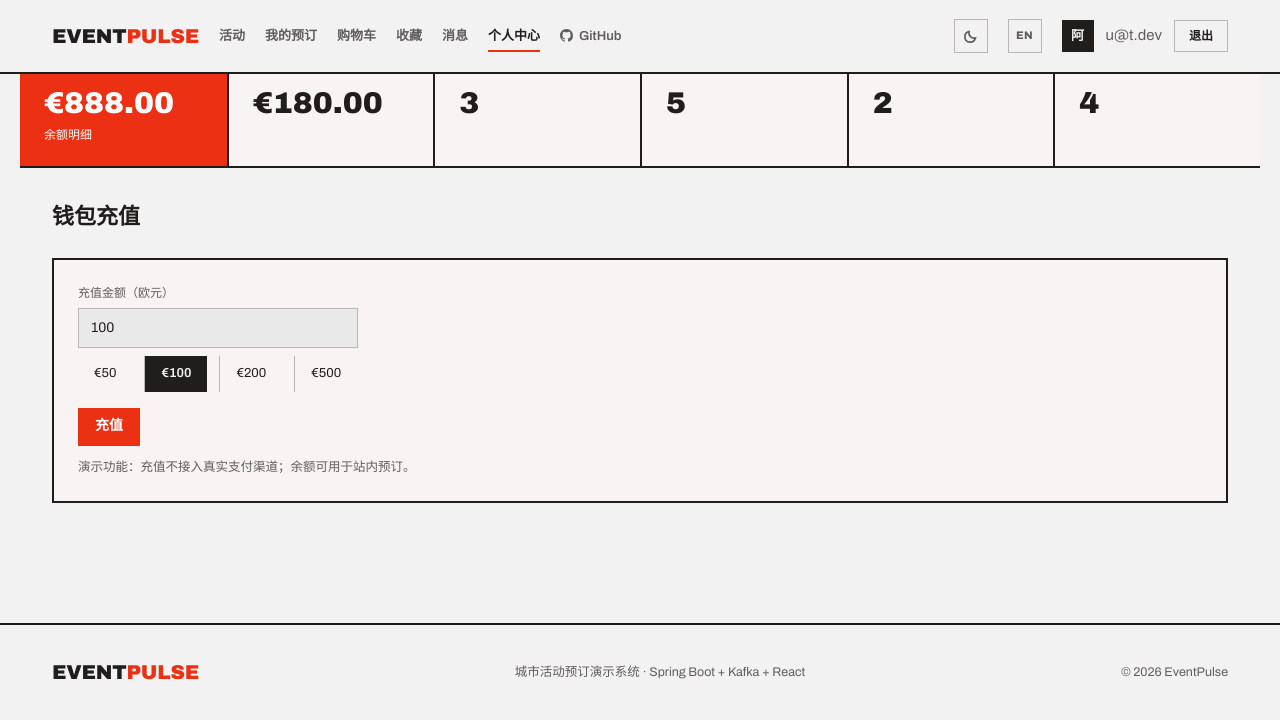
ProfilePage › recharges the wallet and shows the new balance
The width and height of the screenshot is (1280, 720).
(page scrolled)
Expected: the text "€888.00" is shown, [44,86,174,118]
Click the button "€50".
click(105, 374)  # box [78,356,132,392]
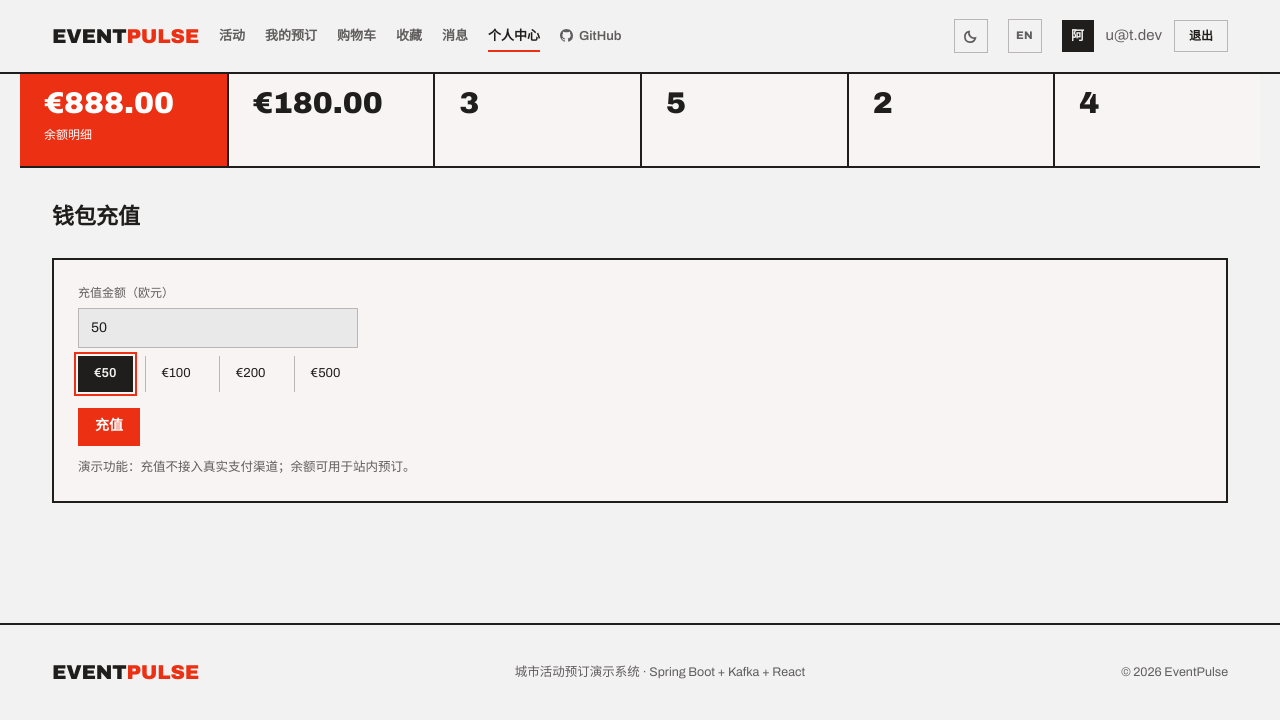
Click the button "充值".
click(109, 427)  # box [78,408,140,446]
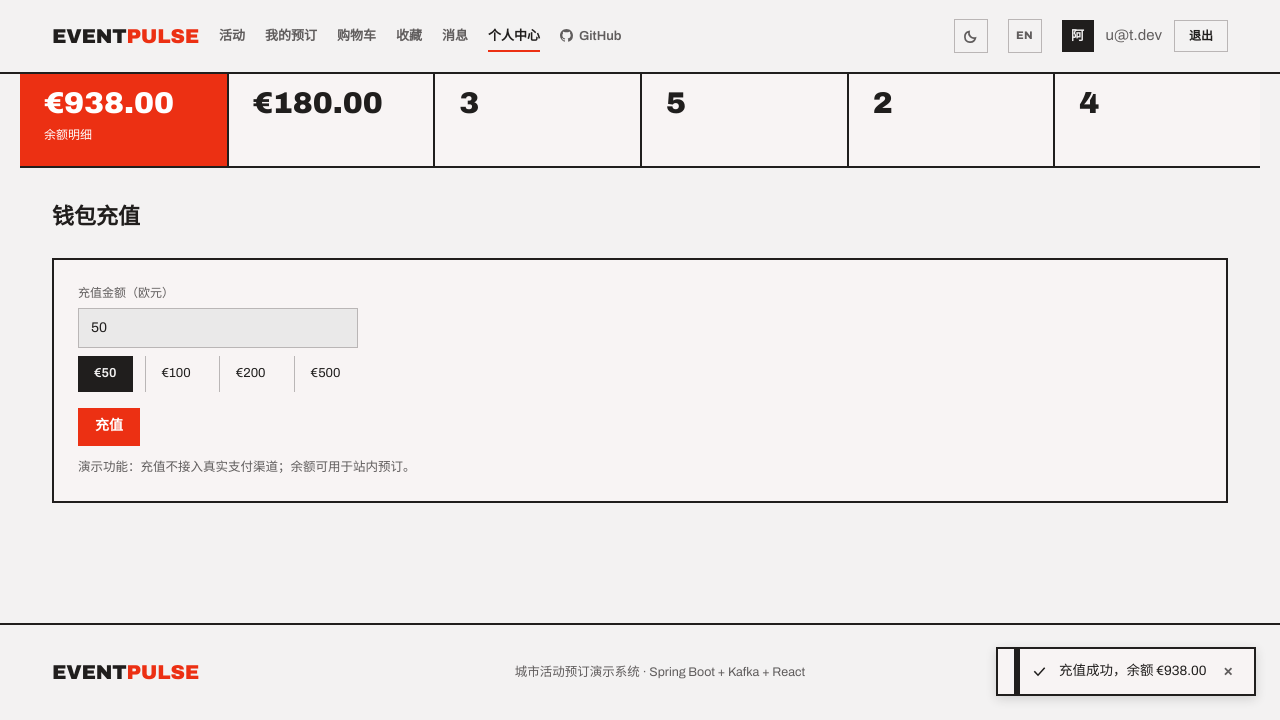
Result: the text "€938.00" is shown at [44,86,174,118]
